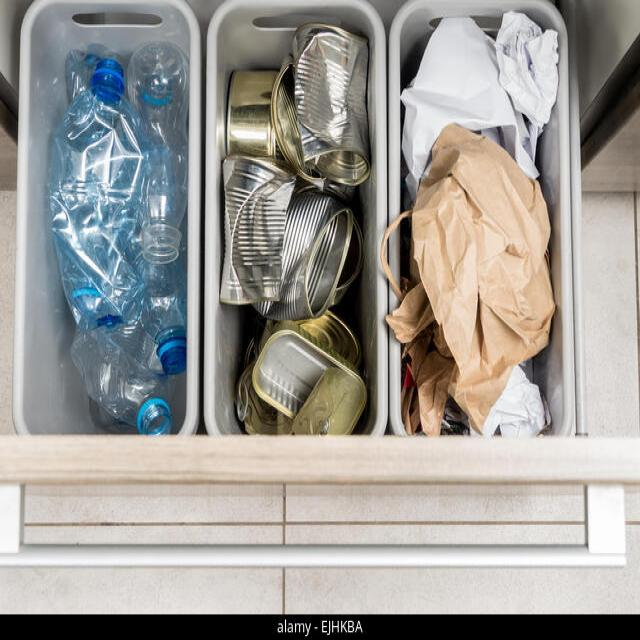metal: (226, 46, 362, 419)
paper: (409, 28, 557, 416)
plastic: (53, 50, 180, 420)
